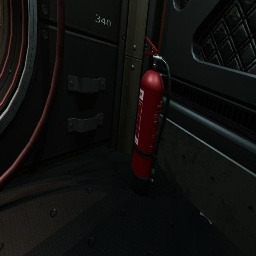FireExtinguisher ]: (130, 36, 171, 195)
